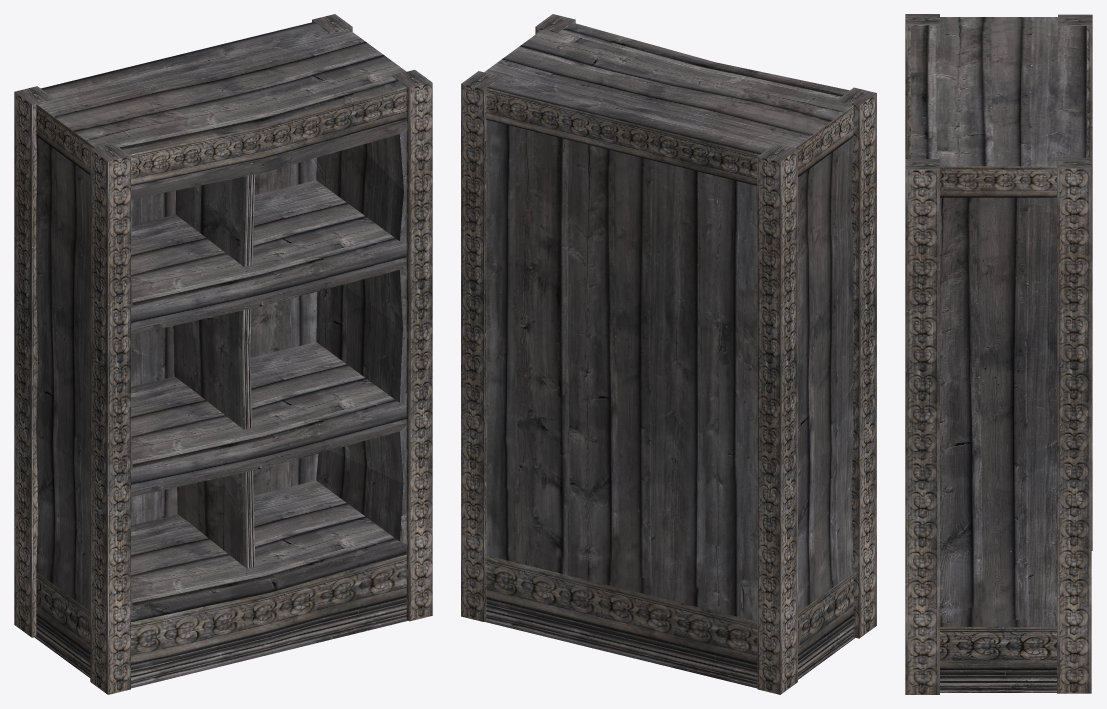
Rendered from tavern_shelf2.dae.
3 views of the same model, side by side, from view 1: azimuth 30°, elevation 25°; view 2: azimuth 150°, elevation 25°; view 3: azimuth 270°, elevation 25° (orthographic).
Visible parts, largest first — view 1: Default_Layer; view 2: Default_Layer; view 3: Default_Layer.
Part boxes in pixels (<box>): Default_Layer: <box>14,14,432,694</box>; Default_Layer: <box>461,14,876,694</box>; Default_Layer: <box>905,14,1092,694</box>.
Size of the model in its own units: 3.19 by 5.03 by 1.62.
